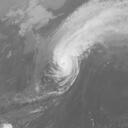cyclone: (47, 45, 80, 80)
